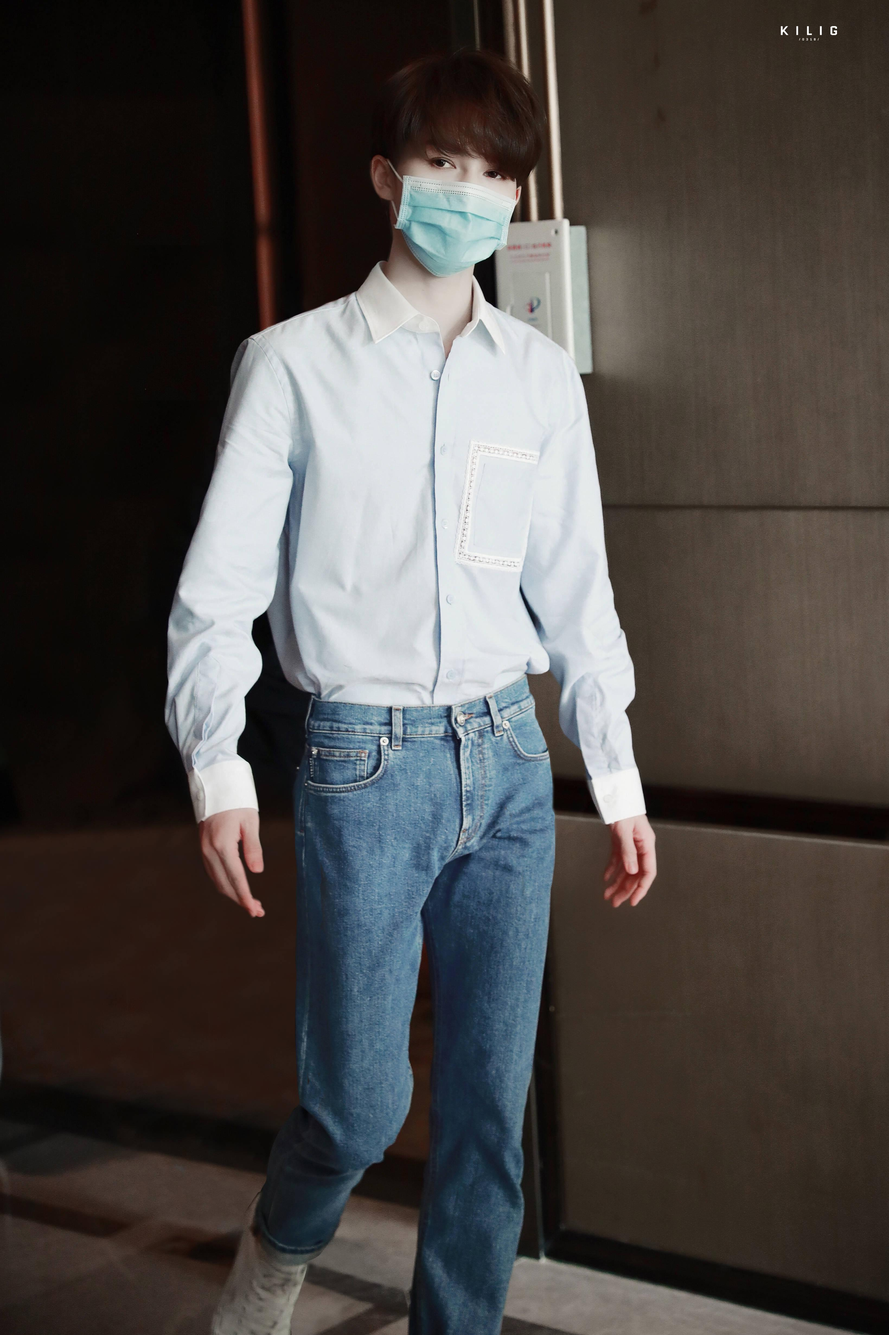OK: (396, 135, 520, 277)
